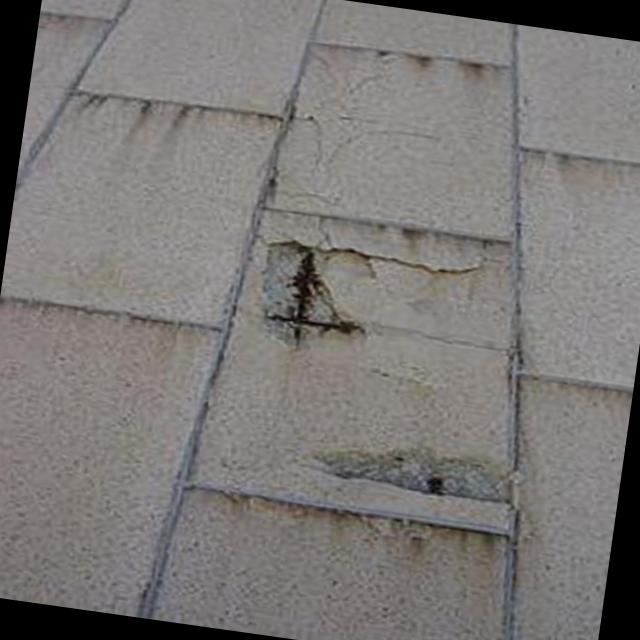spalling: (259, 235, 371, 349)
